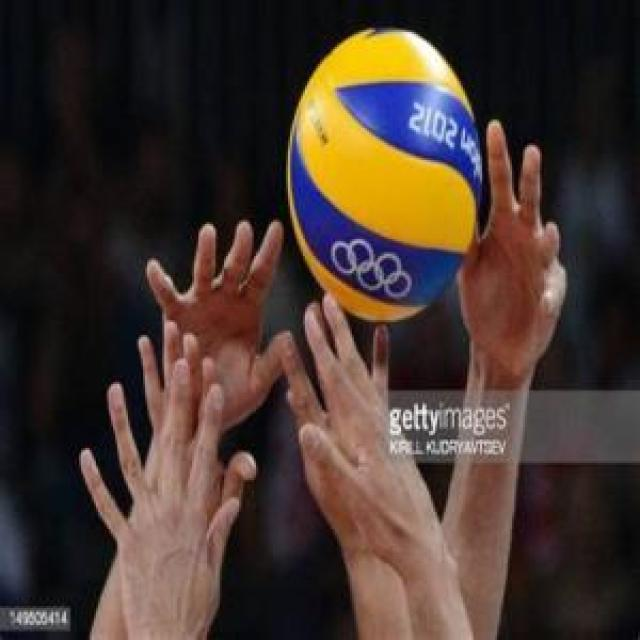volleyball: (286, 27, 482, 323)
